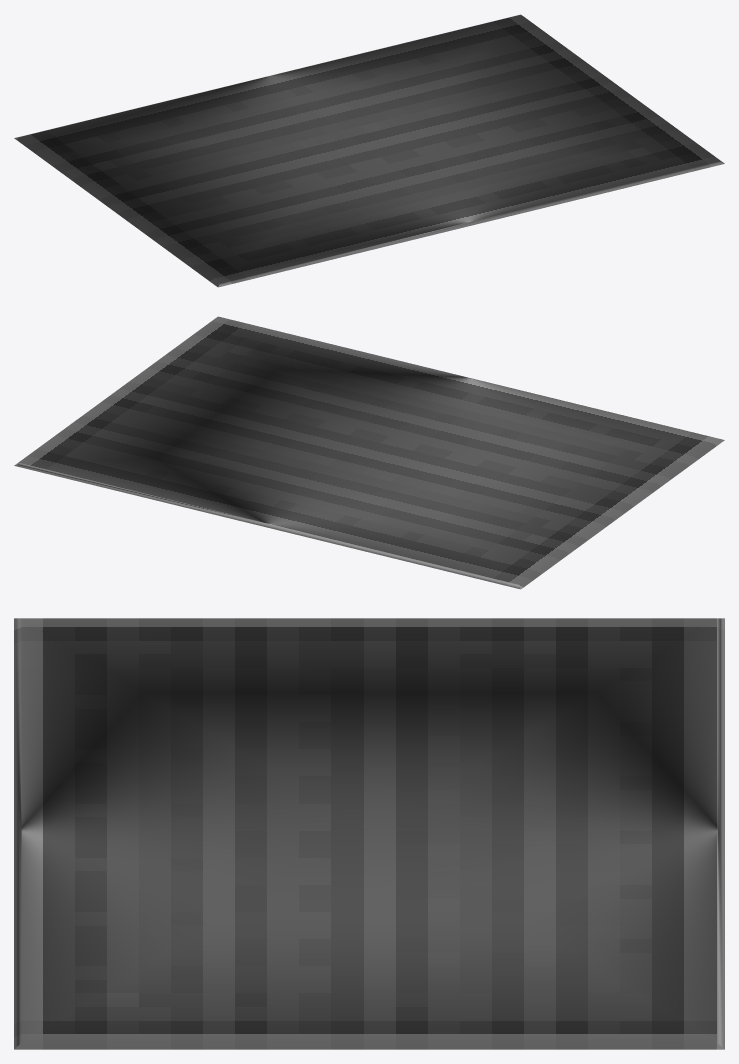
The model's file is a_com_building_b01_mat01.gltf.
3 views of the same model, one above another, from view 1: azimuth 30°, elevation 25°; view 2: azimuth 150°, elevation 25°; view 3: azimuth 270°, elevation 25° (orthographic). The views are drawn at different scales.
Parts seen in each view (by area): view 1: a_com_building_b01_mat01_mesh_shape:a_com_building_b01_mat01; view 2: a_com_building_b01_mat01_mesh_shape:a_com_building_b01_mat01; view 3: a_com_building_b01_mat01_mesh_shape:a_com_building_b01_mat01.
Boxes of the visible parts, x1=… form: a_com_building_b01_mat01_mesh_shape:a_com_building_b01_mat01: x1=14, y1=14, x2=724, y2=287; a_com_building_b01_mat01_mesh_shape:a_com_building_b01_mat01: x1=14, y1=316, x2=724, y2=589; a_com_building_b01_mat01_mesh_shape:a_com_building_b01_mat01: x1=14, y1=618, x2=724, y2=1049.
Bounding box in the file's own units: 2.74 × 0.00992 × 1.91.
1 material, 1 textured.
